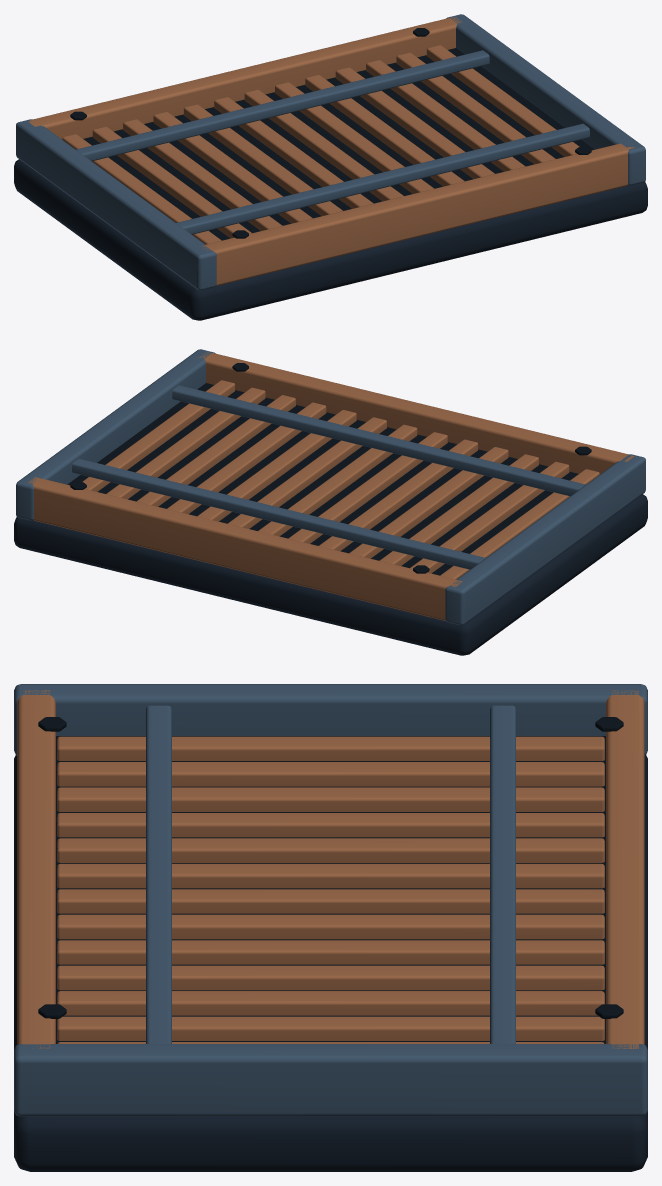
File: foundry_heat_exchanger.fbx
The picture shows the model from 3 angles, top to bottom: view 1: azimuth 30°, elevation 25°; view 2: azimuth 150°, elevation 25°; view 3: azimuth 270°, elevation 25°; orthographic projection. The views are drawn at different scales.
Visible parts, largest first — view 1: foundry_heat_exchanger_Geometry; view 2: foundry_heat_exchanger_Geometry; view 3: foundry_heat_exchanger_Geometry.
Part boxes in pixels (bbox=[...]): foundry_heat_exchanger_Geometry: bbox=[14, 14, 647, 320]; foundry_heat_exchanger_Geometry: bbox=[14, 349, 647, 655]; foundry_heat_exchanger_Geometry: bbox=[14, 684, 647, 1171].
Size of the model in its own units: 4 by 0.5905 by 2.8.
